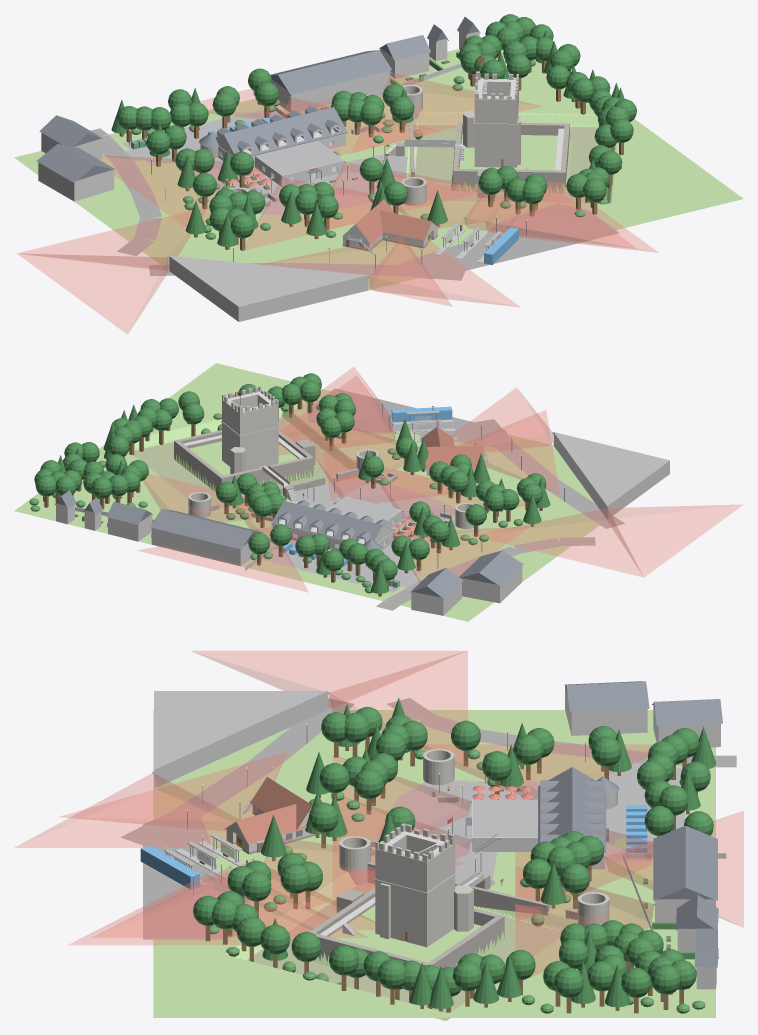
File: Burgaltendorf.glb
The picture shows the model from 3 angles, top to bottom: view 1: azimuth 30°, elevation 25°; view 2: azimuth 150°, elevation 25°; view 3: azimuth 270°, elevation 25°; orthographic projection. The views are drawn at different scales.
Visible parts, largest first — view 1: Teil_Kamerakegel_Kegel_Durchsicht, Baeume_Laub_Blaetter, Gelaende_Gras, Gelaende_Gras_Rand, Gelaende_Busbahnhof, Haeuser_Supermarkt_Dach_Boden, Baeume_Tanne_Nadeln, Gelaende_Strassen, Gelaende_Graben, Haeuser_Burg_Turm_Waende, Haeuser_Supermarkt_Waende, Haeuser_Nord_1_Dach_Satteldach (+22 smaller); view 2: Teil_Kamerakegel_Kegel_Durchsicht, Baeume_Laub_Blaetter, Gelaende_Gras, Gelaende_Gras_Rand, Gelaende_Strassen, Baeume_Tanne_Nadeln, Haeuser_Supermarkt_Dach_Boden, Haeuser_Burg_Turm_Waende, Gelaende_Graben, Gelaende_Parkplatz, Gelaende_Busbahnhof, Haeuser_Burg_Ringmauer_Waende (+23 smaller); view 3: Teil_Kamerakegel_Kegel_Durchsicht, Baeume_Laub_Blaetter, Gelaende_Gras, Gelaende_Gras_Rand, Baeume_Tanne_Nadeln, Gelaende_Strassen, Haeuser_Supermarkt_Dach_Boden, Haeuser_Burg_Turm_Waende, Gelaende_Busbahnhof, Haeuser_Nord_1_Dach_Satteldach, Gelaende_Parkplatz, Gelaende_Graben (+24 smaller).
Part boxes in pixels (bbox=[...]): Teil_Kamerakegel_Kegel_Durchsicht: bbox=[17, 73, 658, 334]; Baeume_Laub_Blaetter: bbox=[117, 14, 636, 238]; Gelaende_Gras: bbox=[14, 49, 743, 321]; Gelaende_Gras_Rand: bbox=[331, 76, 712, 242]; Gelaende_Busbahnhof: bbox=[379, 204, 619, 278]; Haeuser_Supermarkt_Dach_Boden: bbox=[169, 256, 367, 306]; Baeume_Tanne_Nadeln: bbox=[111, 29, 624, 246]; Gelaende_Strassen: bbox=[90, 128, 465, 280]; Gelaende_Graben: bbox=[415, 124, 605, 202]; Haeuser_Burg_Turm_Waende: bbox=[474, 78, 518, 167]; Haeuser_Supermarkt_Waende: bbox=[169, 256, 368, 321]; Haeuser_Nord_1_Dach_Satteldach: bbox=[270, 50, 391, 94]; Teil_Kamerakegel_Kegel_Durchsicht: bbox=[137, 367, 743, 592]; Baeume_Laub_Blaetter: bbox=[34, 373, 546, 580]; Gelaende_Gras: bbox=[14, 363, 599, 621]; Gelaende_Gras_Rand: bbox=[82, 381, 422, 529]; Gelaende_Strassen: bbox=[376, 419, 624, 610]; Baeume_Tanne_Nadeln: bbox=[58, 404, 550, 593]; Haeuser_Supermarkt_Dach_Boden: bbox=[554, 432, 669, 505]; Haeuser_Burg_Turm_Waende: bbox=[222, 391, 278, 470]; Gelaende_Graben: bbox=[134, 418, 346, 507]; Gelaende_Parkplatz: bbox=[293, 479, 457, 528]; Gelaende_Busbahnhof: bbox=[307, 388, 510, 447]; Haeuser_Burg_Ringmauer_Waende: bbox=[174, 430, 313, 490]; Teil_Kamerakegel_Kegel_Durchsicht: bbox=[14, 650, 743, 980]; Baeume_Laub_Blaetter: bbox=[193, 706, 713, 998]; Gelaende_Gras: bbox=[153, 710, 715, 1017]; Gelaende_Gras_Rand: bbox=[220, 859, 590, 1020]; Baeume_Tanne_Nadeln: bbox=[261, 698, 715, 1008]; Gelaende_Strassen: bbox=[120, 698, 736, 845]; Haeuser_Supermarkt_Dach_Boden: bbox=[154, 691, 327, 769]; Haeuser_Burg_Turm_Waende: bbox=[375, 830, 455, 947]; Gelaende_Busbahnhof: bbox=[143, 805, 250, 939]; Haeuser_Nord_1_Dach_Satteldach: bbox=[653, 825, 717, 900]; Gelaende_Parkplatz: bbox=[377, 780, 496, 886]; Gelaende_Graben: bbox=[248, 883, 561, 1020].
Size of the model in its own units: 188 by 29.94 by 157.
